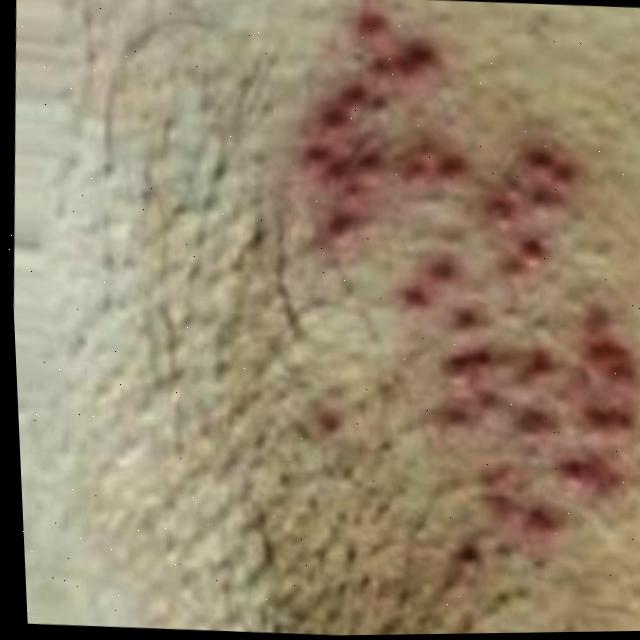Shingles: (281, 4, 640, 561)
